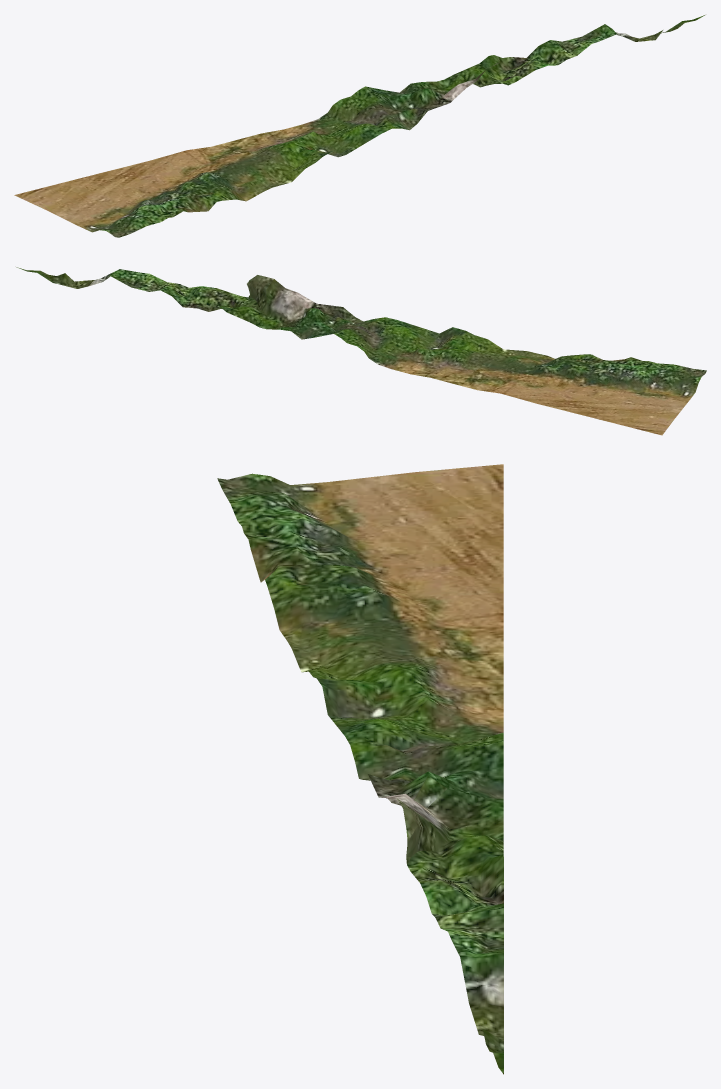
File: Tile_+001_+000.glb
3 renders of one model, top to bottom at view 1: azimuth 30°, elevation 25°; view 2: azimuth 150°, elevation 25°; view 3: azimuth 270°, elevation 25°, orthographic. The views are drawn at different scales.
Visible parts, largest first — view 1: rtc; view 2: rtc; view 3: rtc.
Boxes of the visible parts, <box> form: rtc: <box>14,15,704,237</box>; rtc: <box>16,267,706,435</box>; rtc: <box>217,464,503,1074</box>.
Size of the model in its own units: 15.84 by 0.9751 by 3.03.
Materials: 2 (2 with a texture image).
